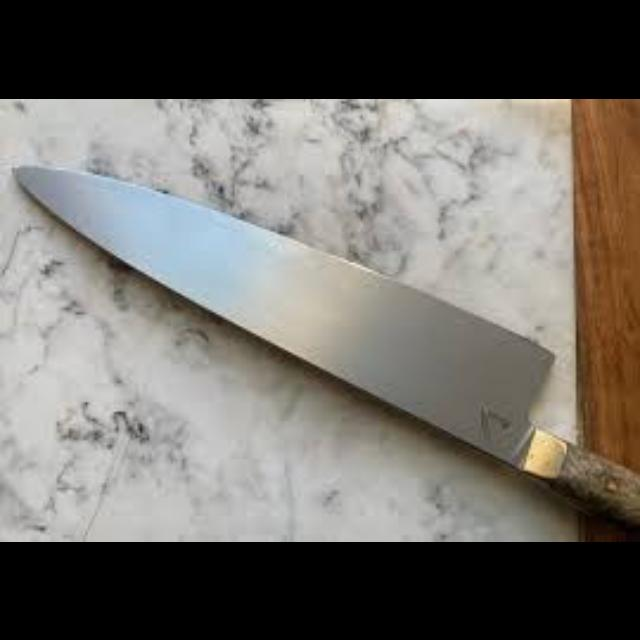knife: (12, 159, 638, 526)
